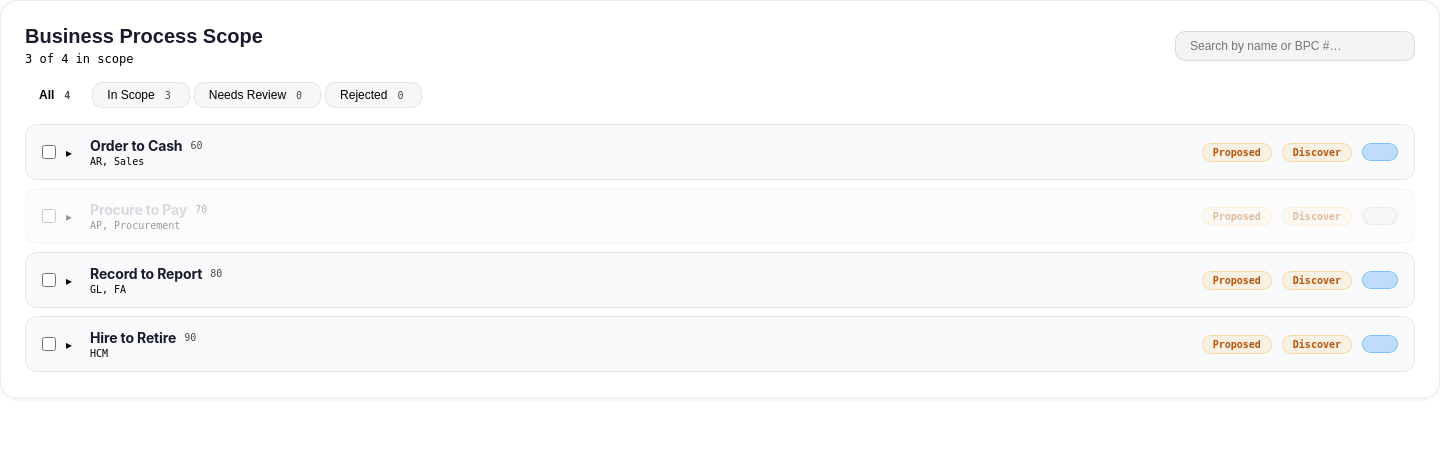
BusinessProcessPage Review UX › Bulk selection › action bar shows selected count
Click the checkbox with test id "checkbox-e1" at (49, 152), box [42,145,56,159]
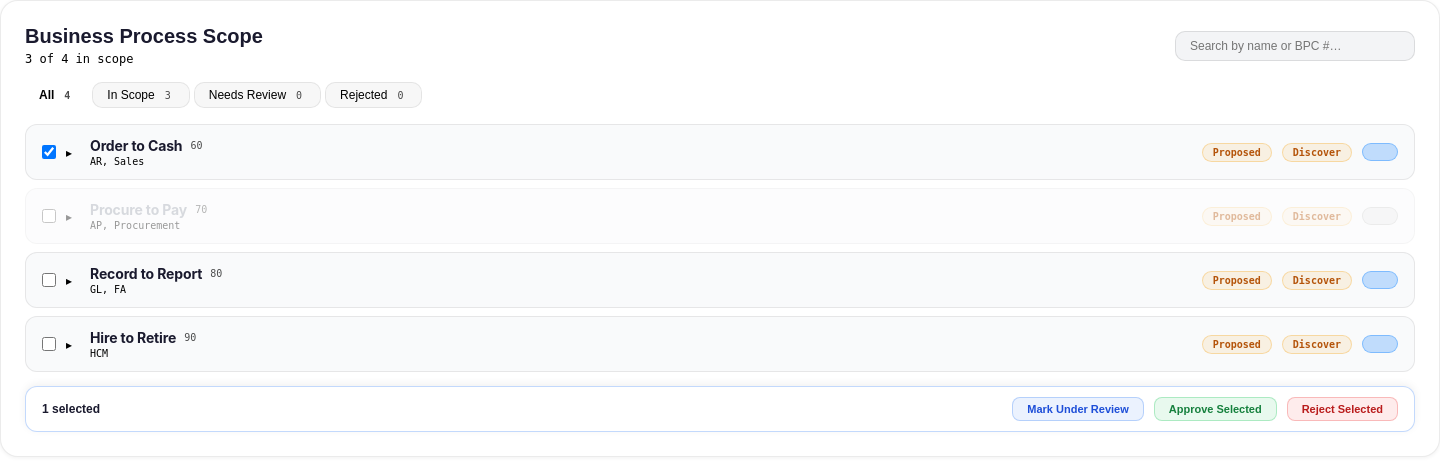
Click the checkbox with test id "checkbox-e3" at (49, 280), box [42,273,56,287]
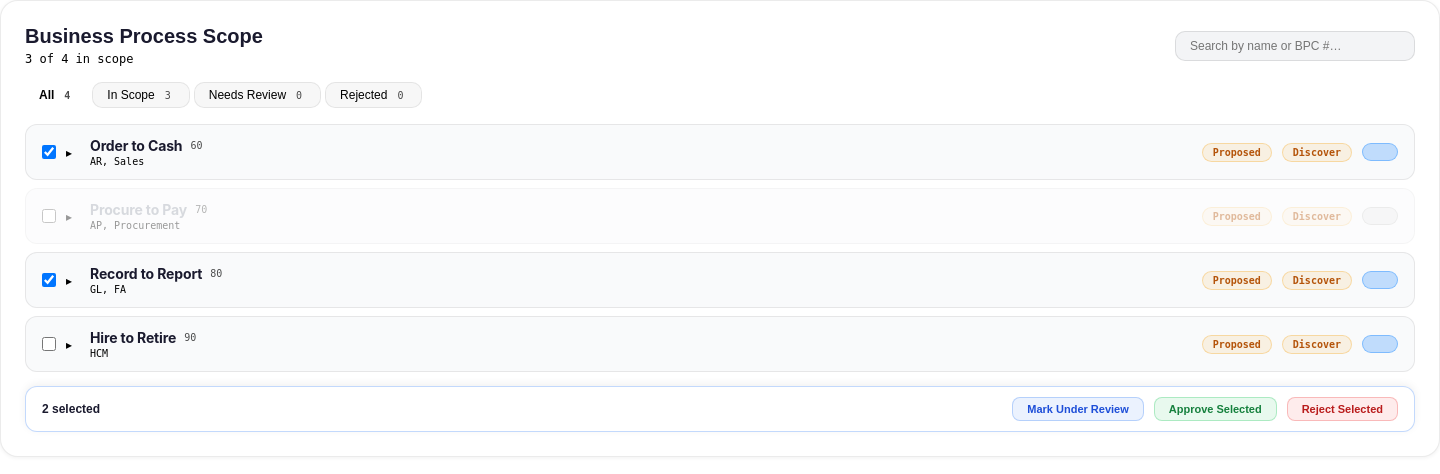
Check: the element with test id "bulk-action-bar" shows "2 selected", box [25,386,1415,432]
